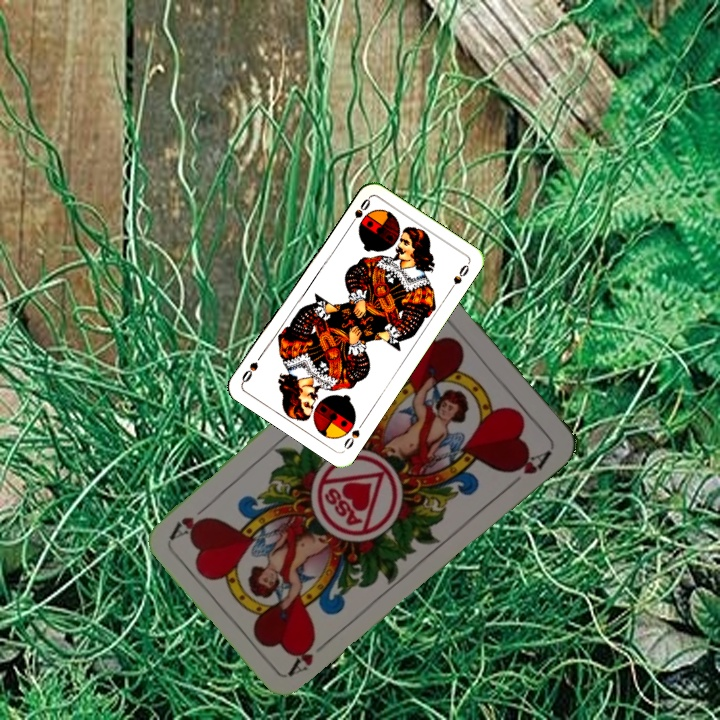HA: (285, 634, 334, 678)
SO: (344, 194, 373, 230), (339, 417, 367, 452)
